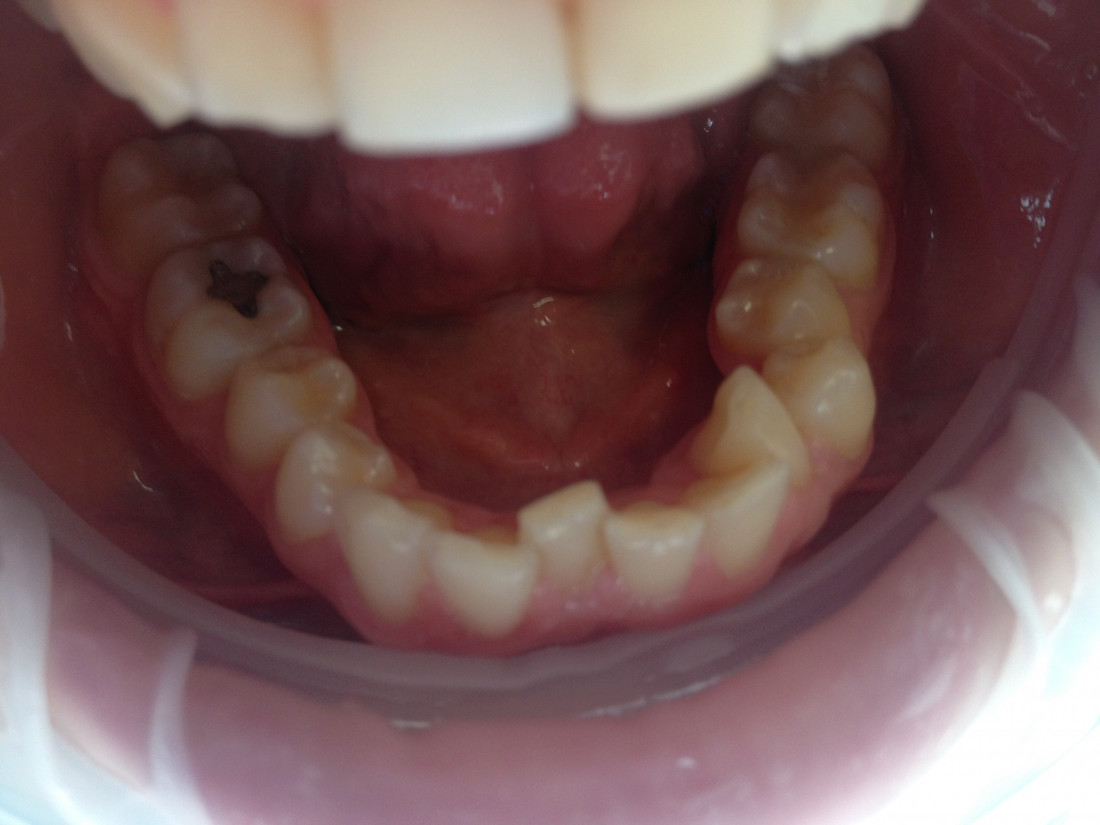LL1BC_healthy: (766, 340, 874, 452)
LL1M_decay: (738, 153, 875, 268)
LL2BC_healthy: (716, 257, 838, 339)
LL2M_decay: (756, 74, 888, 146)
LLCI_healthy: (611, 500, 702, 604)
LLC_healthy: (709, 366, 802, 475)
LLLI_healthy: (698, 468, 779, 575)
LR1BC_healthy: (276, 422, 391, 541)
LR1M_decay: (146, 238, 310, 353)
LR2BC_decay: (228, 347, 355, 452)
LR2M_decay: (98, 132, 262, 239)
LRCI_healthy: (517, 479, 608, 578)
LRC_healthy: (335, 494, 440, 618)
LRLI_healthy: (435, 532, 533, 633)
